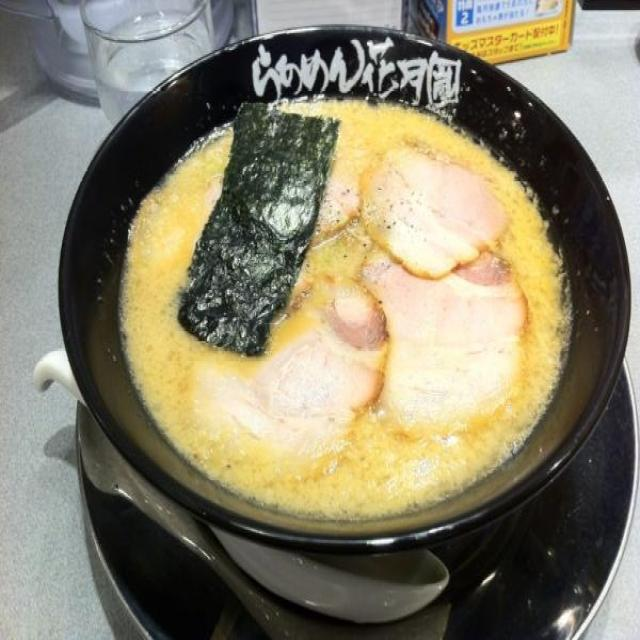面条主食: (59, 27, 626, 532)
